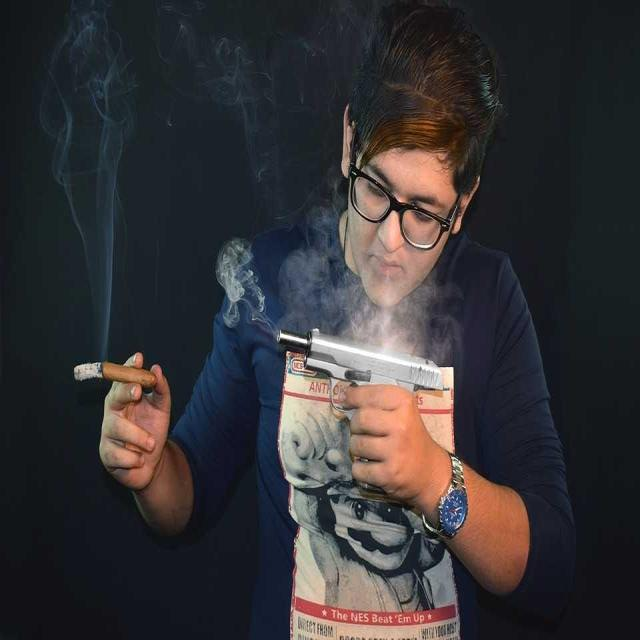Smooking: (64, 339, 157, 406)
